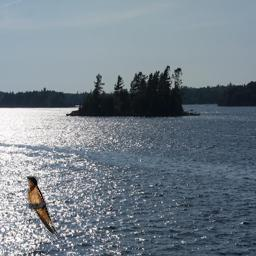Swallow: (26, 175, 61, 239)
